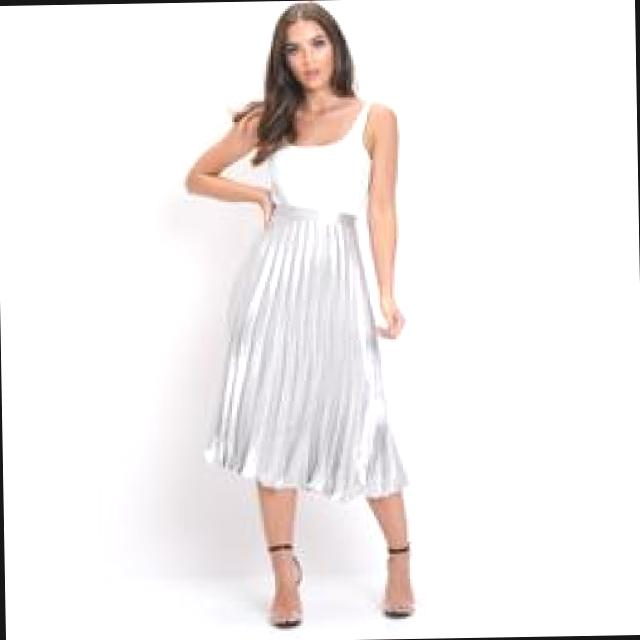Tshirt: (260, 90, 380, 218)
skirt: (202, 201, 410, 507)
